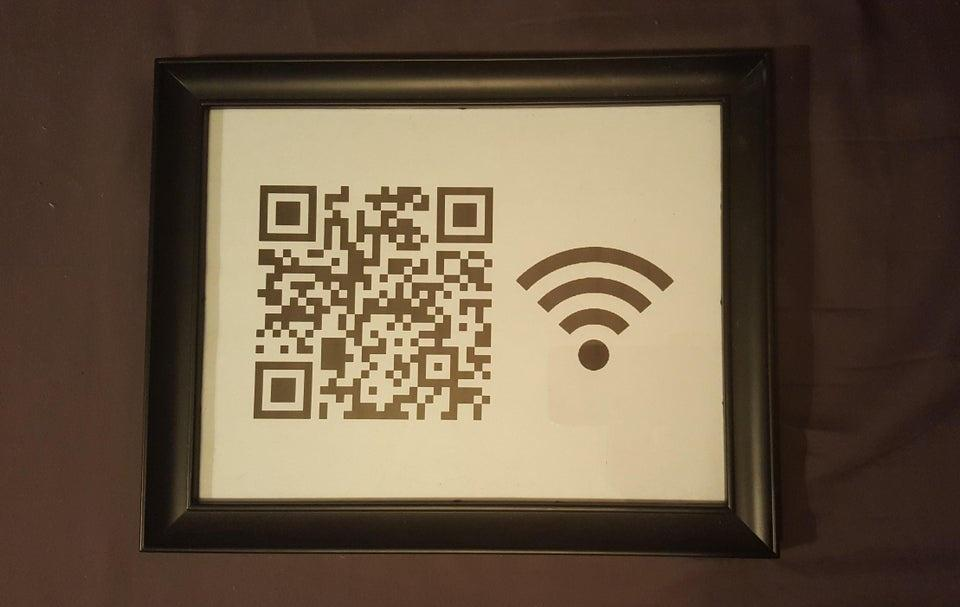Finder pattern: (247, 355, 314, 425), (432, 181, 496, 247), (256, 180, 320, 242)
